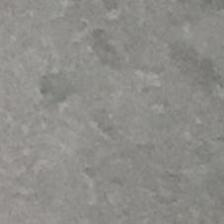Non_Crack: (20, 10, 202, 208)
